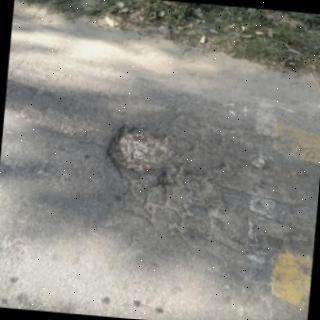pothole: (109, 126, 179, 187)
